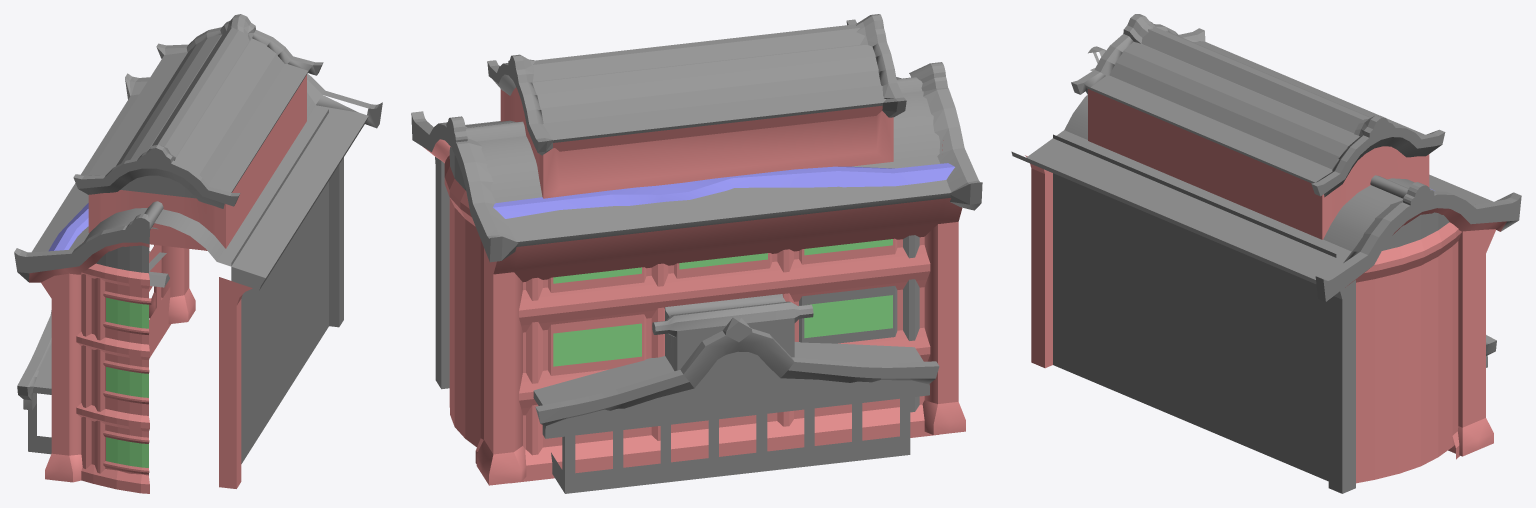
Rendered from COL_SM_ENV_KNVLLG03_AreaF_BuildingA.gltf.
The picture shows the model from 3 angles, left to right: view 1: azimuth 30°, elevation 25°; view 2: azimuth 150°, elevation 25°; view 3: azimuth 270°, elevation 25°; orthographic projection. The views are drawn at different scales.
Visible parts, largest first — view 1: COL_SM_ENV_KNVLLG03_AreaF_BuildingA; view 2: COL_SM_ENV_KNVLLG03_AreaF_BuildingA; view 3: COL_SM_ENV_KNVLLG03_AreaF_BuildingA.
Boxes of the visible parts, x1,y1,x2,y2 form: COL_SM_ENV_KNVLLG03_AreaF_BuildingA: (14,14,382,493); COL_SM_ENV_KNVLLG03_AreaF_BuildingA: (411,14,982,493); COL_SM_ENV_KNVLLG03_AreaF_BuildingA: (1011,14,1521,493).
Bounding box in the file's own units: 37.86 × 27.47 × 36.66.
